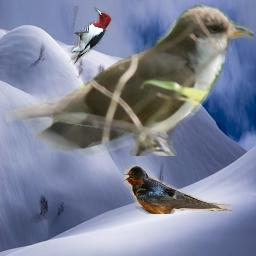Cuckoo: (5, 4, 254, 156)
Swallow: (124, 165, 232, 214)
Woodpecker: (67, 6, 114, 66)
